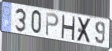0: (31, 10, 43, 37)
3: (14, 8, 27, 33)
9: (94, 21, 106, 46)
H: (61, 14, 76, 42)
P: (45, 12, 60, 38)
X: (76, 17, 92, 45)
